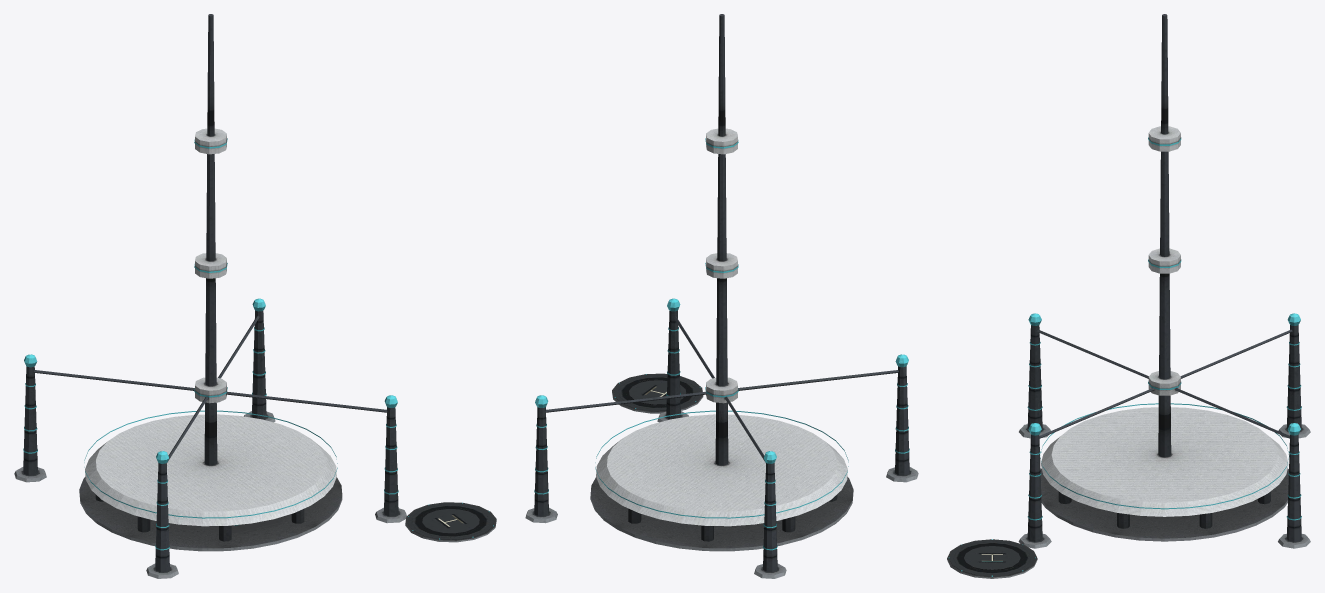
Rendered from space_elevator.glb.
3 views of the same model, side by side, from view 1: azimuth 30°, elevation 25°; view 2: azimuth 150°, elevation 25°; view 3: azimuth 270°, elevation 25° (orthographic).
Visible parts, largest first — view 1: LOD0, LOD0.002, LOD0.001; view 2: LOD0, LOD0.002, LOD0.001; view 3: LOD0, LOD0.002, LOD0.001.
Part boxes in pixels (bbox=[...]): LOD0: bbox=[79, 410, 342, 551]; LOD0.002: bbox=[14, 298, 496, 578]; LOD0.001: bbox=[194, 14, 227, 465]; LOD0: bbox=[590, 410, 853, 551]; LOD0.002: bbox=[525, 298, 918, 578]; LOD0.001: bbox=[705, 14, 738, 465]; LOD0: bbox=[1040, 403, 1289, 541]; LOD0.002: bbox=[947, 313, 1310, 578]; LOD0.001: bbox=[1148, 14, 1181, 457].
Size of what is drawn, in the model's own units: 6.75 by 9.66 by 6.75.
Materials: 1 (1 with a texture image).
